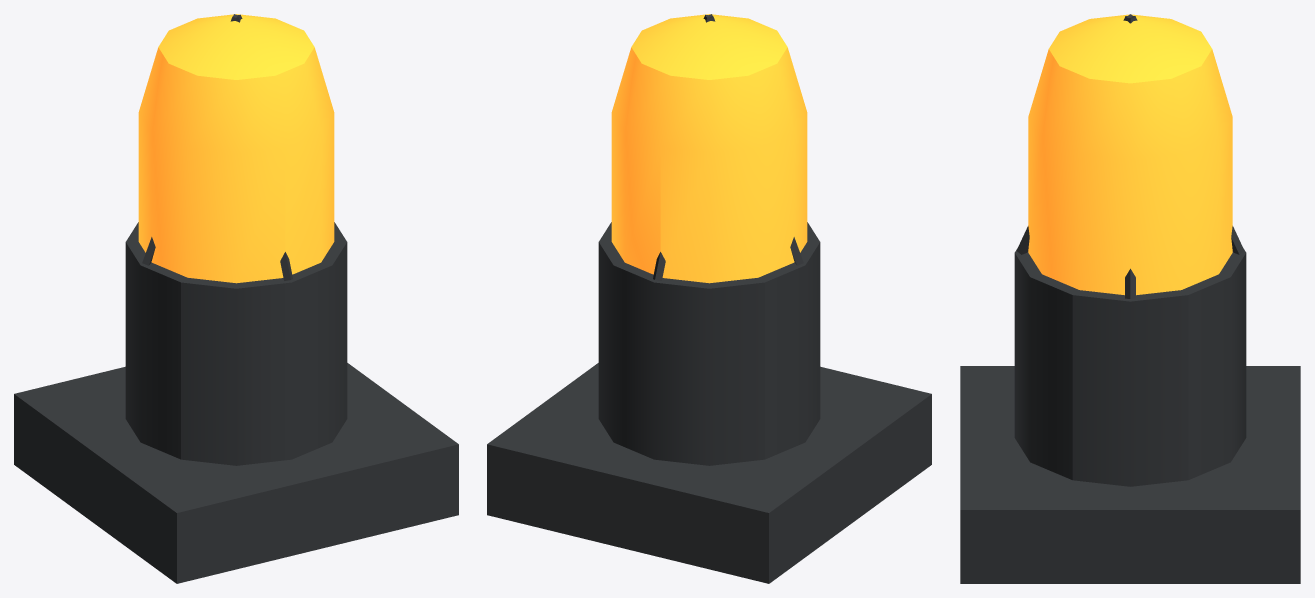
Rendered from prop_beacon_hazard.glb.
The picture shows the model from 3 angles, left to right: view 1: azimuth 30°, elevation 25°; view 2: azimuth 150°, elevation 25°; view 3: azimuth 270°, elevation 25°; orthographic projection. The views are drawn at different scales.
Parts seen in each view (by area): view 1: Beacon; view 2: Beacon; view 3: Beacon.
Part boxes in pixels (x1=…): Beacon: x1=14, y1=14, x2=458, y2=583; Beacon: x1=487, y1=14, x2=931, y2=583; Beacon: x1=960, y1=14, x2=1300, y2=583.
Size of the model in its own units: 0.5 by 0.8031 by 0.5.
